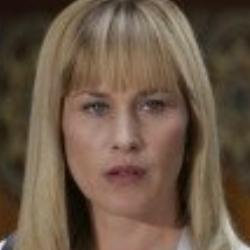face: (12, 3, 239, 233)
